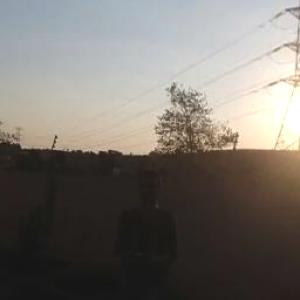follow: (105, 163, 183, 299)
